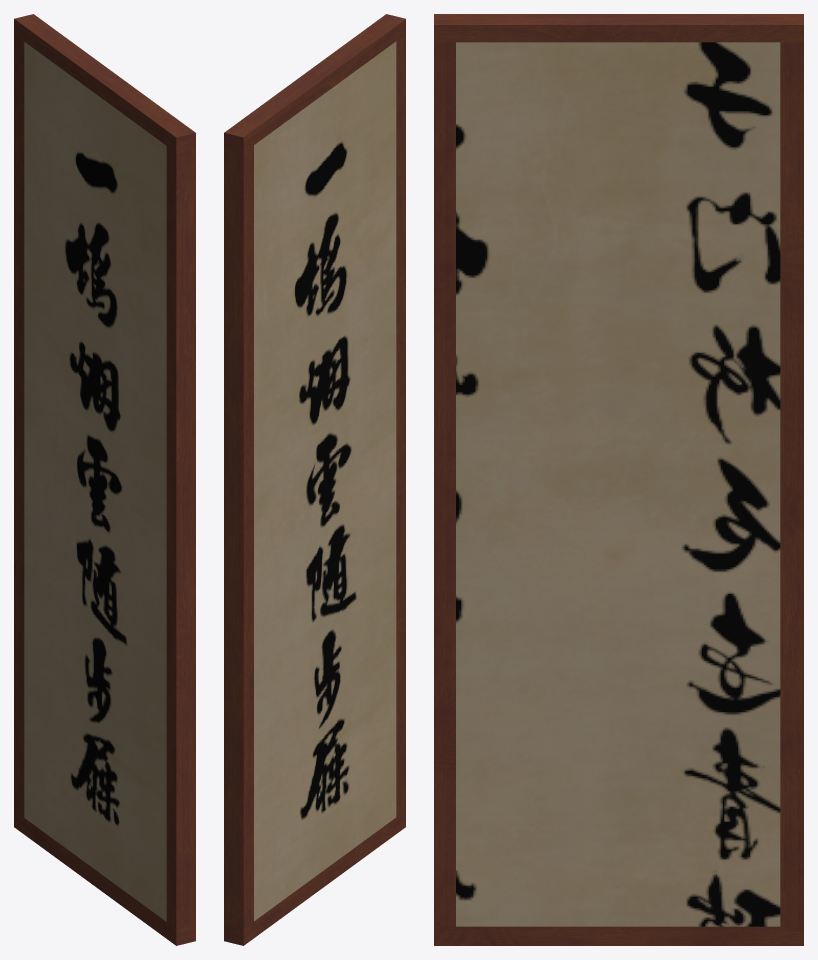
The model's file is SM_StelaPaper01L.fbx.
3 renders of one model, left to right at view 1: azimuth 30°, elevation 25°; view 2: azimuth 150°, elevation 25°; view 3: azimuth 270°, elevation 25°, orthographic. The views are drawn at different scales.
Parts seen in each view (by area): view 1: SM_StelaPaper01L; view 2: SM_StelaPaper01L; view 3: SM_StelaPaper01L.
Part boxes in pixels (x1=…): SM_StelaPaper01L: x1=14, y1=14, x2=195, y2=945; SM_StelaPaper01L: x1=224, y1=14, x2=405, y2=945; SM_StelaPaper01L: x1=434, y1=14, x2=803, y2=945.
Size of the model in its own units: 3.53 by 50.87 by 140.
